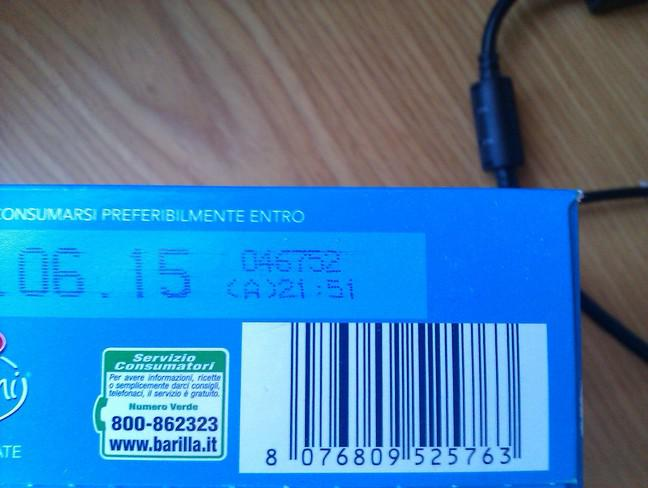Barkod: (239, 322, 544, 472)
